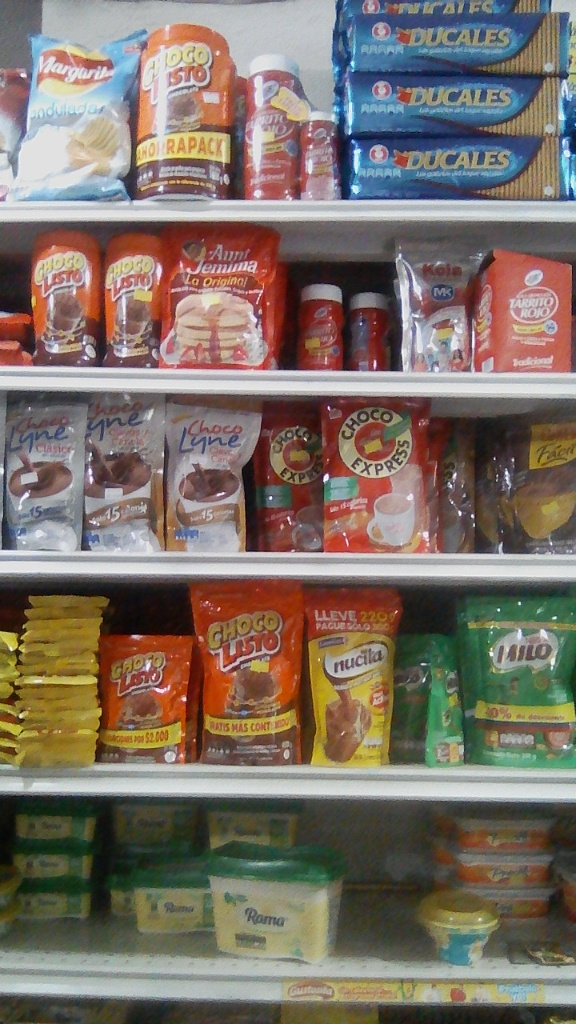COL0170103DYP10000: (99, 633, 193, 767)
COL0170103DYP40000: (191, 582, 304, 765)
COL0170103TRR00100: (133, 21, 238, 203)
COL0170103TRR30000: (102, 230, 162, 366)
COL0170203DYP10000: (426, 643, 477, 766)
COL0170203DYP25000: (459, 589, 576, 767)
